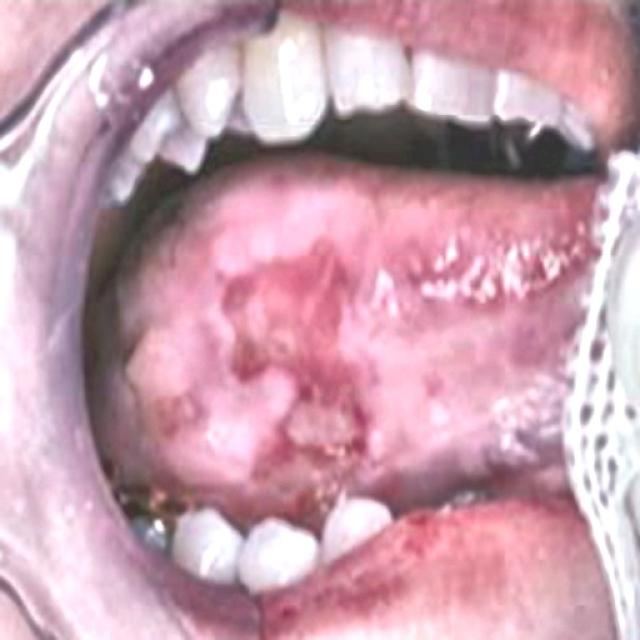cancer-detection: (117, 212, 586, 502)
processing_area: (100, 152, 590, 535)
